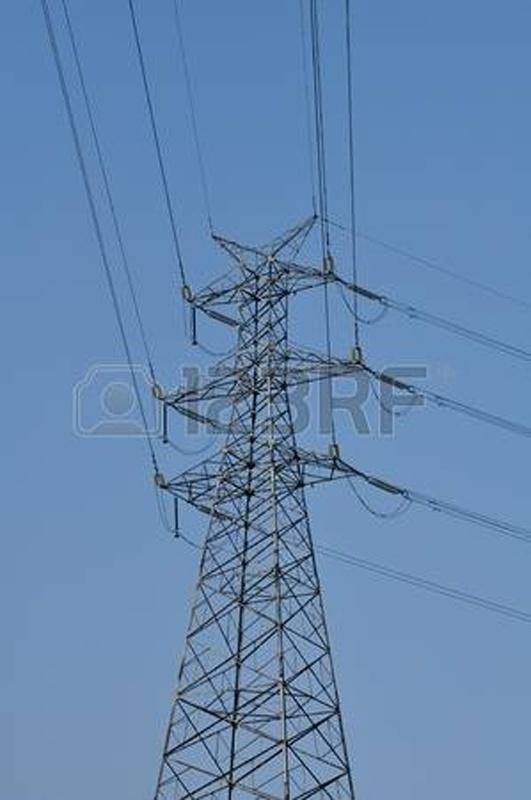power_tower: (144, 211, 380, 794)
